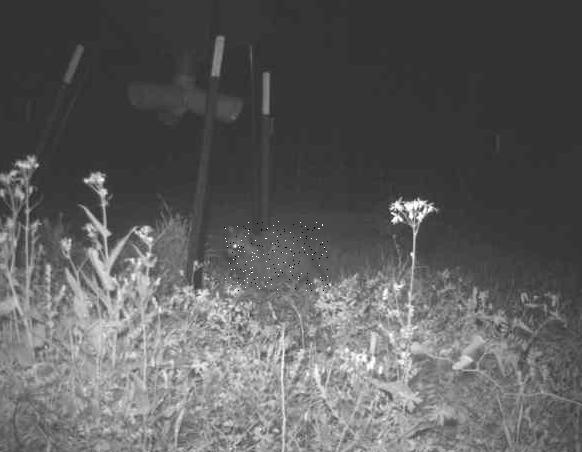Raccoon: (222, 221, 328, 291)
